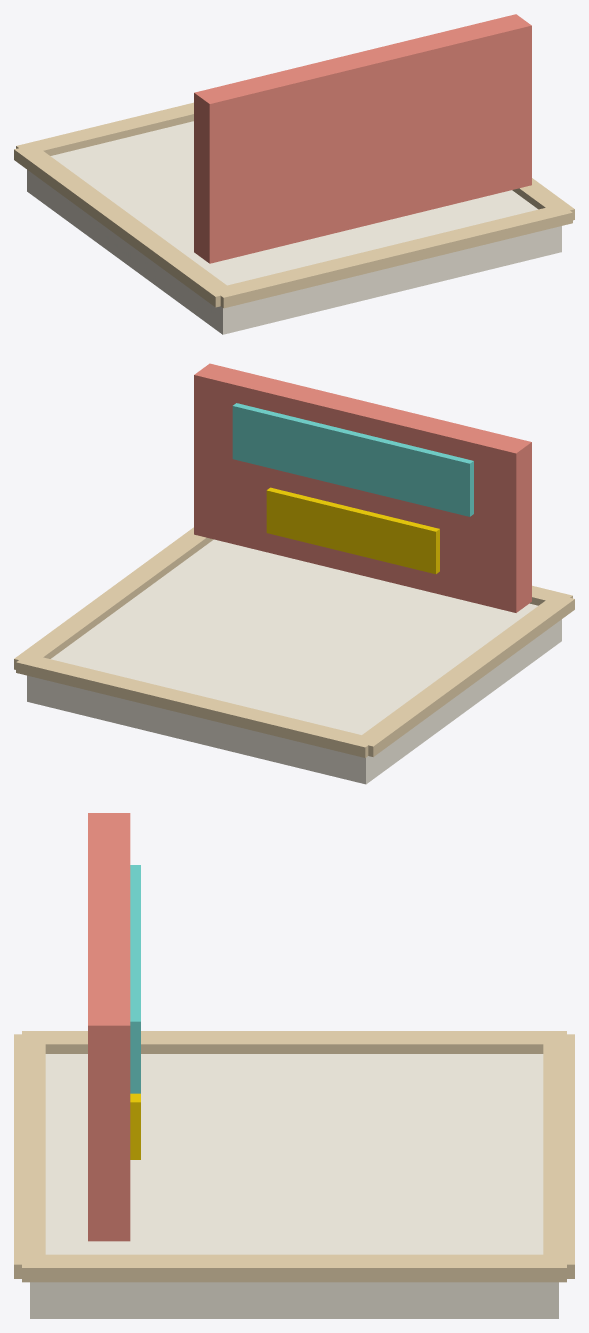
File: city.wall_mural.glb
The picture shows the model from 3 angles, top to bottom: view 1: azimuth 30°, elevation 25°; view 2: azimuth 150°, elevation 25°; view 3: azimuth 270°, elevation 25°; orthographic projection. The views are drawn at different scales.
Parts seen in each view (by area): view 1: city.wall_mural; view 2: city.wall_mural; view 3: city.wall_mural.
Boxes of the visible parts, x1,y1,x2,y2 form: city.wall_mural: [14, 14, 574, 334]; city.wall_mural: [14, 363, 574, 784]; city.wall_mural: [14, 813, 574, 1318].
Bounding box in the file's own units: 2.12 × 1.2 × 2.12.
